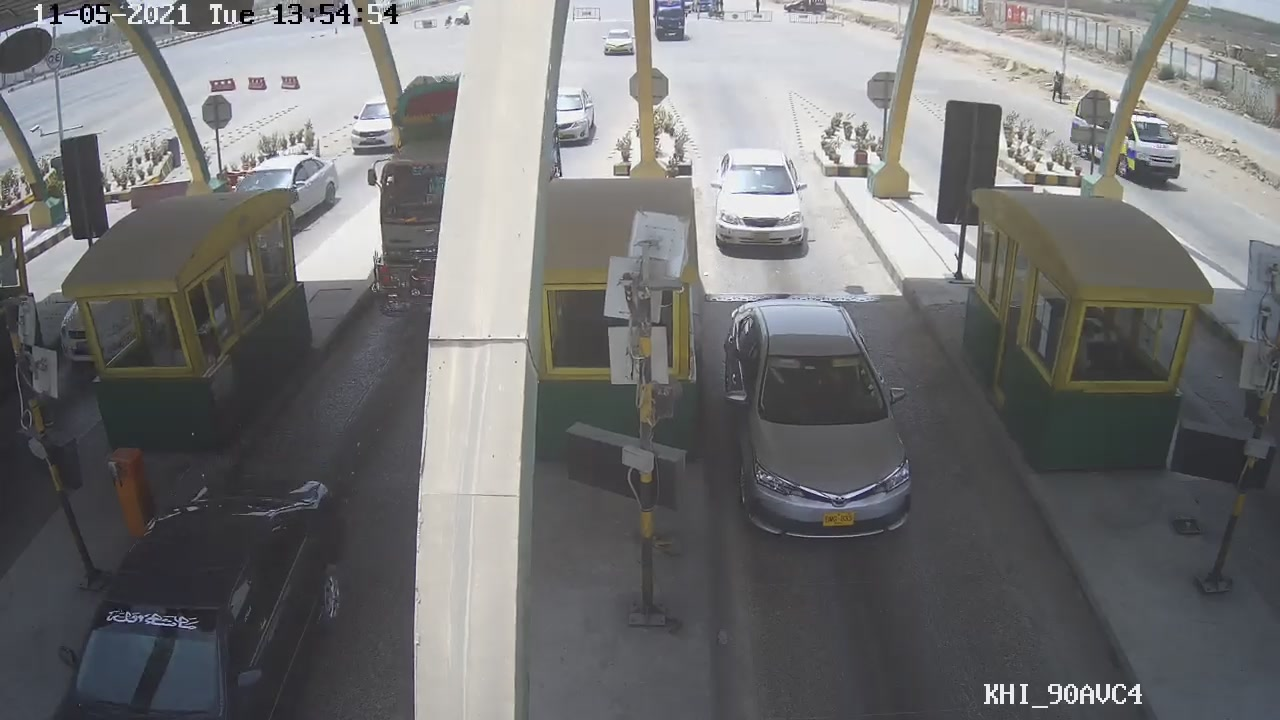F1: (721, 301, 918, 555), (708, 141, 814, 263)
